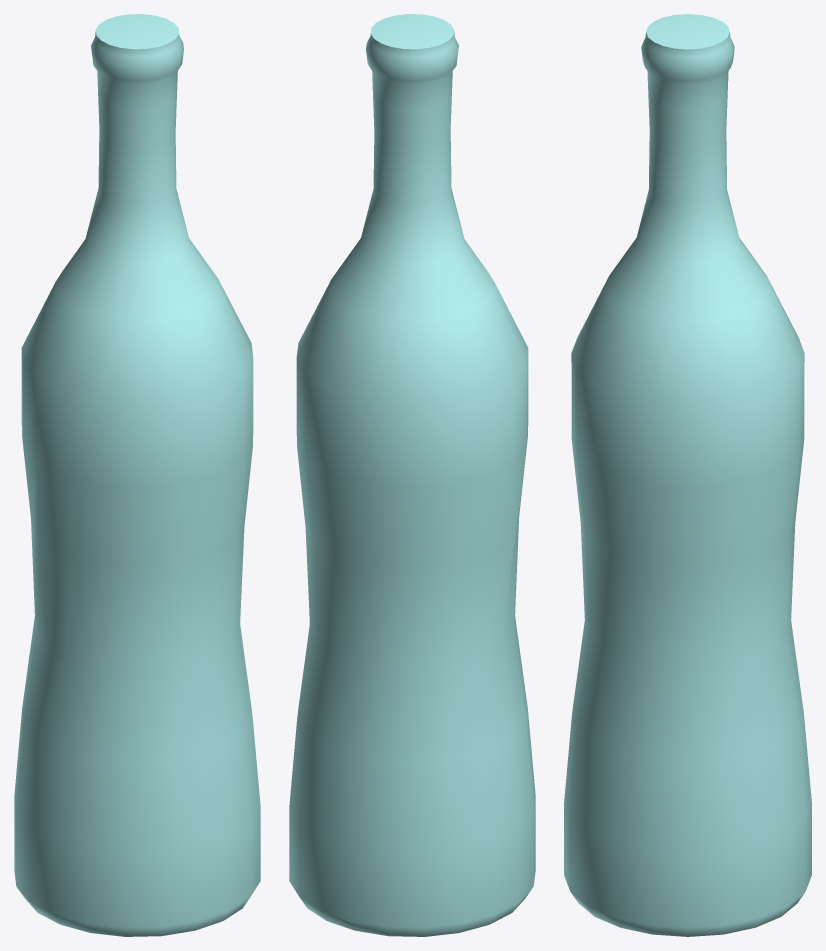
The model's file is SodaBottle.fbx.
The picture shows the model from 3 angles, left to right: view 1: azimuth 30°, elevation 25°; view 2: azimuth 150°, elevation 25°; view 3: azimuth 270°, elevation 25°; orthographic projection.
Visible parts, largest first — view 1: soda_bottle; view 2: soda_bottle; view 3: soda_bottle.
Boxes of the visible parts, x1,y1,x2,y2 form: soda_bottle: (14,14,260,936); soda_bottle: (289,14,535,936); soda_bottle: (564,14,811,936).
Bounding box in the file's own units: 10.01 × 38.28 × 10.01.
